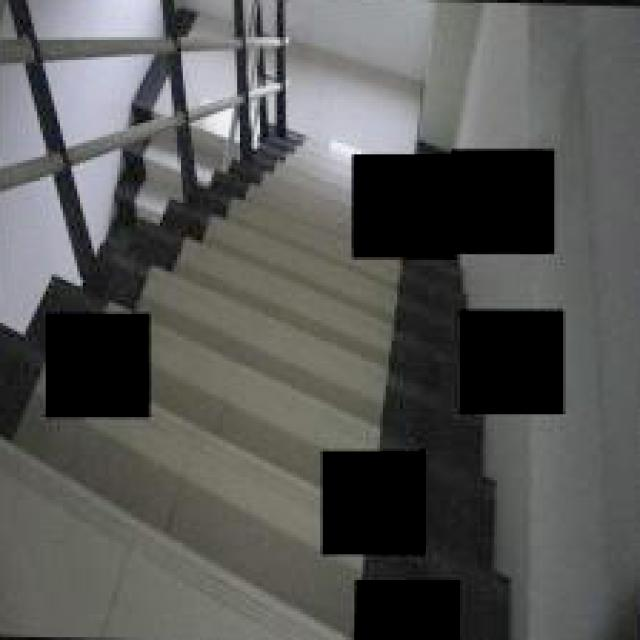downstair: (170, 252, 350, 441)
